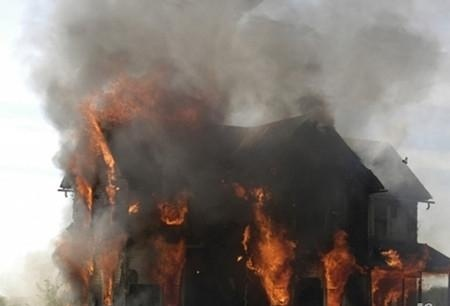fire: (74, 66, 178, 210), (234, 184, 298, 305), (148, 193, 190, 302), (370, 244, 428, 302), (320, 228, 355, 303)
